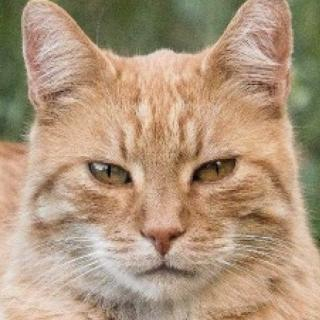cat: (9, 0, 299, 297)
nose: (135, 201, 188, 260)
